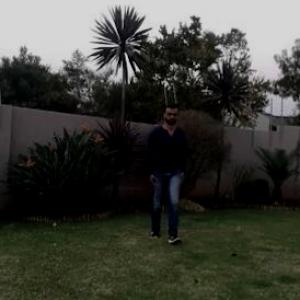follow: (148, 106, 185, 235)
